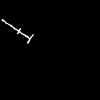double_crochet: (2, 19, 32, 42)
